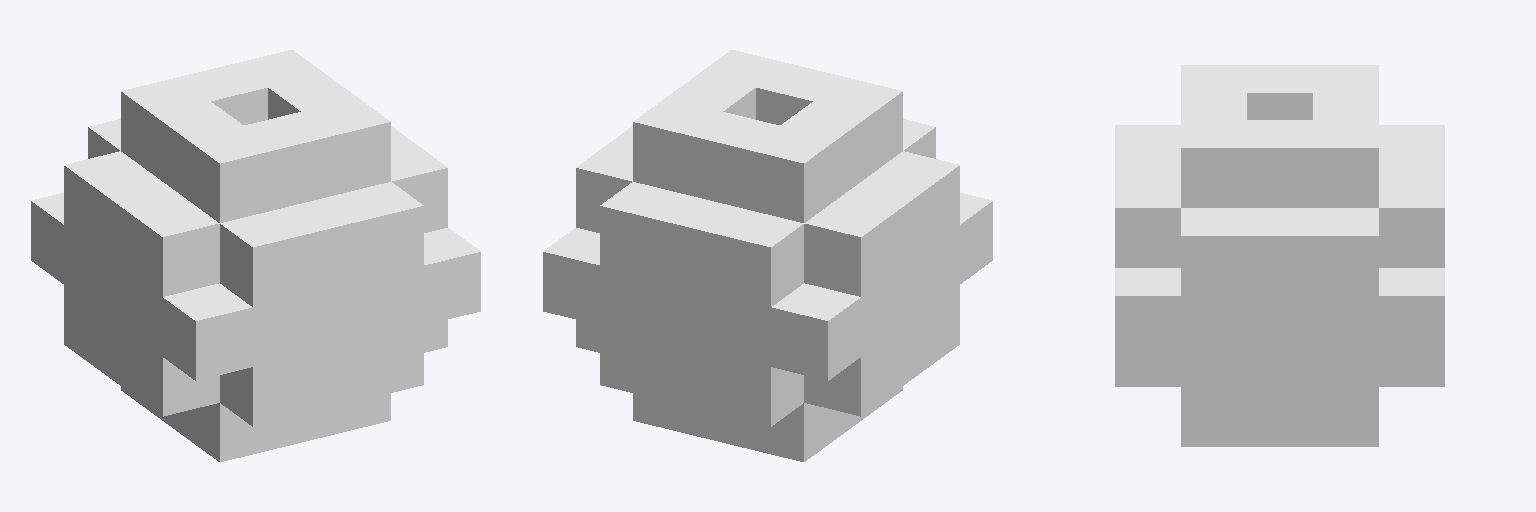
Rendered from PotBroken.obj.
3 renders of one model, left to right at view 1: azimuth 30°, elevation 25°; view 2: azimuth 150°, elevation 25°; view 3: azimuth 270°, elevation 25°, orthographic.
Parts seen in each view (by area): view 1: Pot.003_Pot.005, Pot.004_Pot.006, Pot.002_Pot.004, Pot.001, Pot.005_Pot.007; view 2: Pot.004_Pot.006, Pot.001, Pot.002_Pot.004, Pot.003_Pot.005, Pot.005_Pot.007; view 3: Pot.001, Pot.005_Pot.007, Pot.002_Pot.004, Pot.003_Pot.005.
Part boxes in pixels (x1,y1,x2,y2): Pot.003_Pot.005: (64,122,423,461); Pot.004_Pot.006: (31,166,219,461); Pot.002_Pot.004: (121,50,390,162); Pot.001: (88,92,480,264); Pot.005_Pot.007: (424,252,480,352); Pot.004_Pot.006: (600,166,992,461); Pot.001: (543,92,901,324); Pot.002_Pot.004: (633,50,902,181); Pot.003_Pot.005: (804,92,992,283); Pot.005_Pot.007: (576,320,711,420); Pot.001: (1115,125,1444,355); Pot.005_Pot.007: (1115,296,1444,446); Pot.002_Pot.004: (1181,65,1378,207); Pot.003_Pot.005: (1115,125,1180,386).
Size of the model in its own units: 0.5 by 0.5 by 0.5.